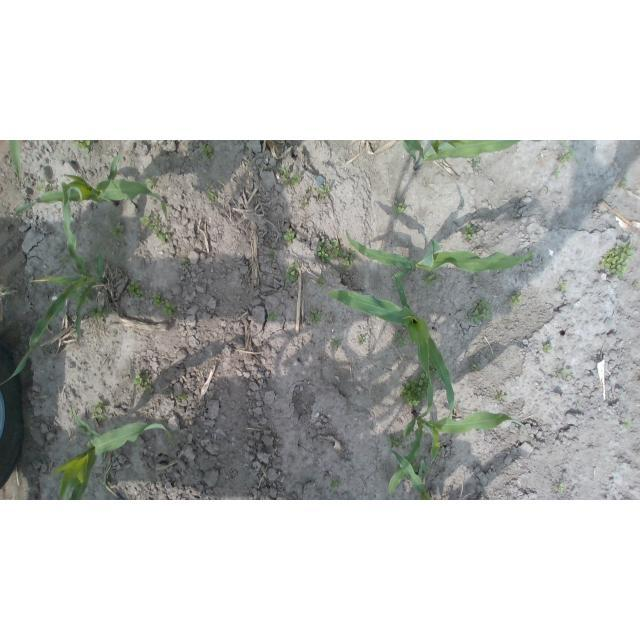Maize: (2, 182, 107, 390), (327, 274, 455, 424), (389, 382, 530, 498), (47, 406, 176, 500), (14, 154, 169, 221), (342, 229, 534, 282), (404, 141, 579, 172), (391, 450, 429, 500), (10, 140, 23, 176)
Weeds: (598, 242, 636, 278), (139, 212, 171, 245), (400, 379, 428, 409), (464, 300, 492, 325), (317, 238, 343, 263), (279, 167, 302, 186), (392, 330, 413, 350), (88, 304, 109, 323), (132, 373, 152, 392), (286, 262, 303, 284), (128, 280, 145, 298), (92, 401, 107, 421), (555, 364, 572, 380), (162, 299, 177, 317), (73, 141, 91, 156), (392, 199, 407, 217), (342, 249, 356, 268), (461, 224, 475, 241), (152, 290, 165, 308), (559, 148, 573, 164), (36, 182, 56, 193), (199, 145, 213, 160), (310, 309, 324, 324), (508, 292, 522, 306), (112, 223, 125, 238), (318, 184, 330, 200), (466, 157, 481, 169), (424, 272, 439, 284), (284, 228, 295, 244), (418, 369, 428, 386), (388, 436, 402, 448), (60, 253, 72, 266), (429, 363, 439, 378), (619, 174, 628, 189), (145, 177, 156, 189), (556, 280, 567, 292), (268, 312, 280, 322), (622, 419, 633, 429), (318, 275, 327, 287), (542, 343, 552, 353), (556, 483, 564, 495), (552, 168, 560, 180), (207, 192, 217, 201), (332, 478, 341, 488), (497, 393, 508, 401), (471, 361, 478, 371), (181, 260, 188, 269), (412, 462, 421, 469), (268, 252, 275, 260), (333, 340, 340, 348), (527, 255, 534, 262), (633, 281, 640, 287), (360, 336, 365, 344), (301, 200, 308, 205), (576, 403, 581, 408), (180, 395, 185, 400)
